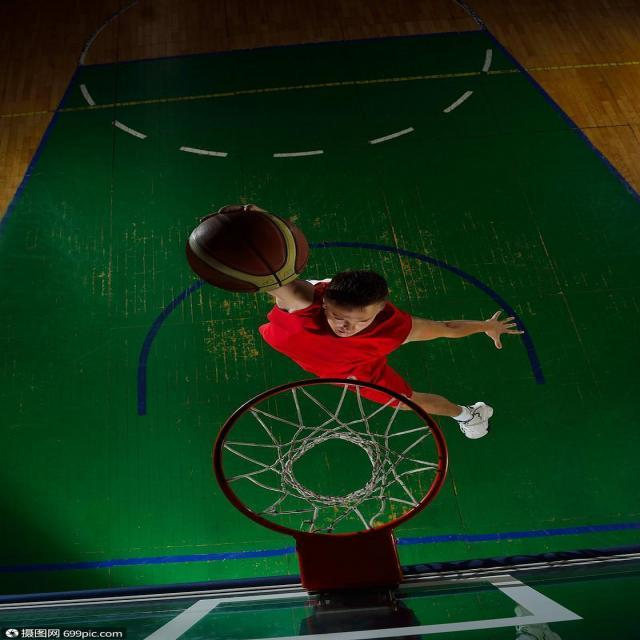rim: (186, 209, 312, 293)
